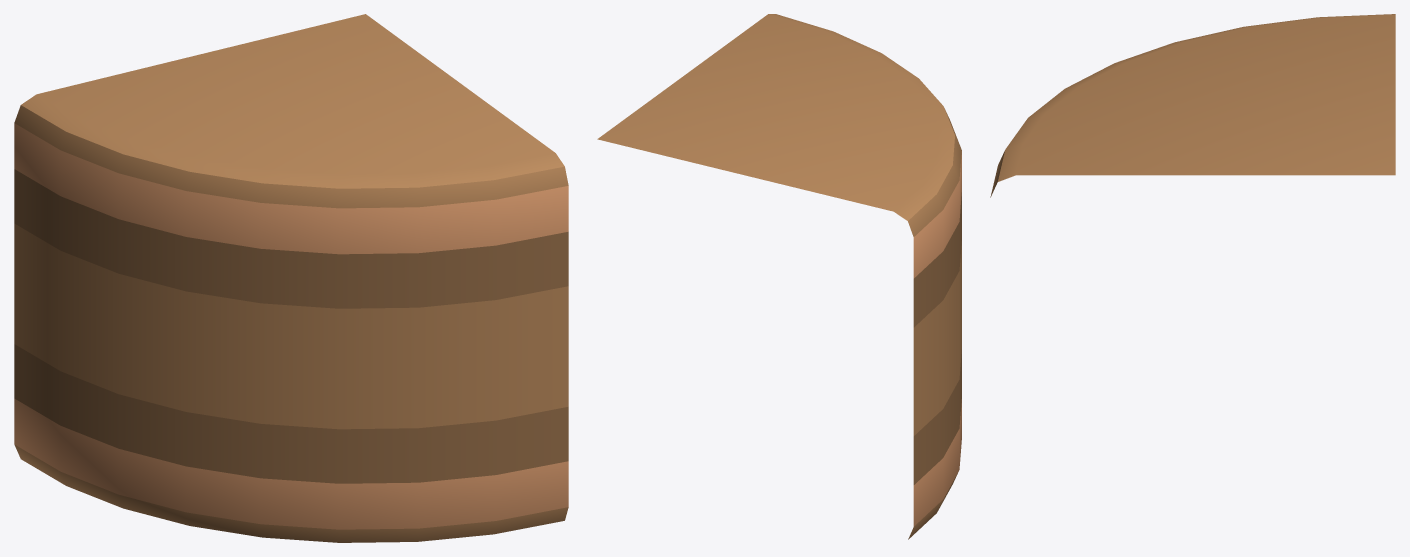
The model's file is platform_dirt_corner_round.gltf.
The picture shows the model from 3 angles, left to right: view 1: azimuth 30°, elevation 25°; view 2: azimuth 150°, elevation 25°; view 3: azimuth 270°, elevation 25°; orthographic projection. The views are drawn at different scales.
Parts seen in each view (by area): view 1: Cube_Dirt_Corner_Round; view 2: Cube_Dirt_Corner_Round; view 3: Cube_Dirt_Corner_Round.
Part boxes in pixels (x1,y1,x2,y2): Cube_Dirt_Corner_Round: (14,14,568,542); Cube_Dirt_Corner_Round: (597,14,961,539); Cube_Dirt_Corner_Round: (990,14,1395,197).
Size of the model in its own units: 2 by 2 by 2.
